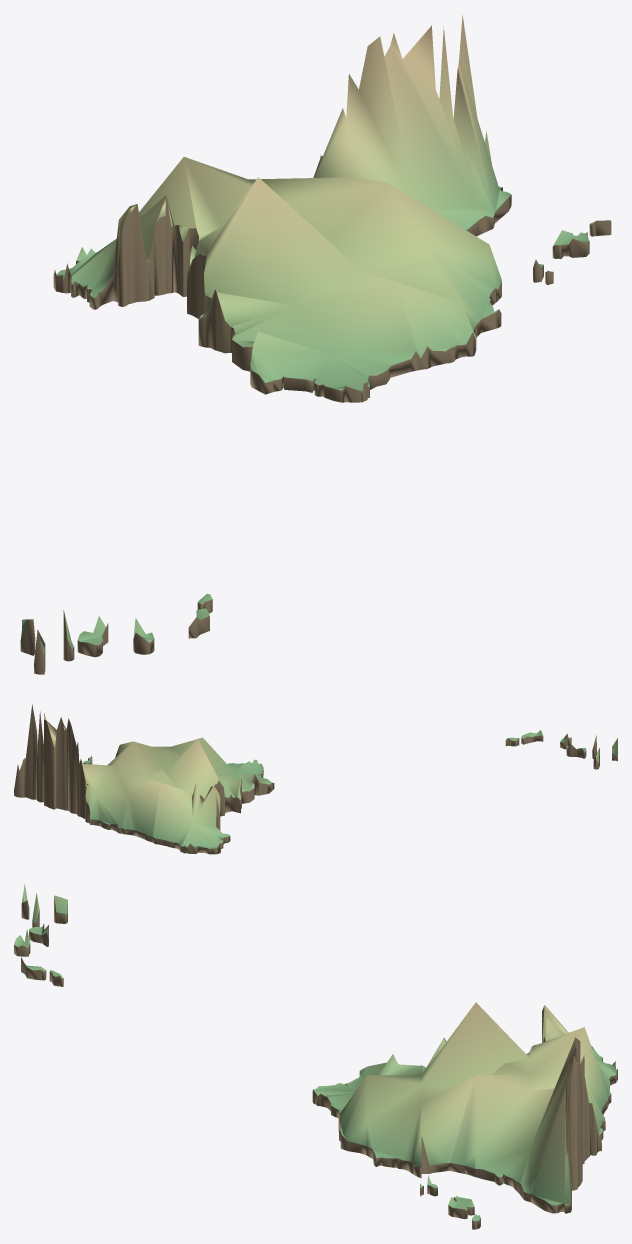
Rendered from ESP.glb.
3 views of the same model, one above another, from view 1: azimuth 30°, elevation 25°; view 2: azimuth 150°, elevation 25°; view 3: azimuth 270°, elevation 25° (orthographic). The views are drawn at different scales.
Visible parts, largest first — view 1: ESP; view 2: ESP; view 3: ESP.
Boxes of the visible parts, <box> form: ESP: <box>20,15,611,674</box>; ESP: <box>14,704,617,854</box>; ESP: <box>14,884,617,1229</box>.
Size of the model in its own units: 1.48 by 0.3089 by 1.21.
